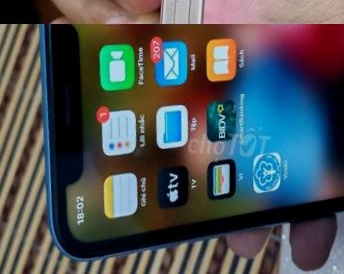scratch: (156, 0, 197, 24)
